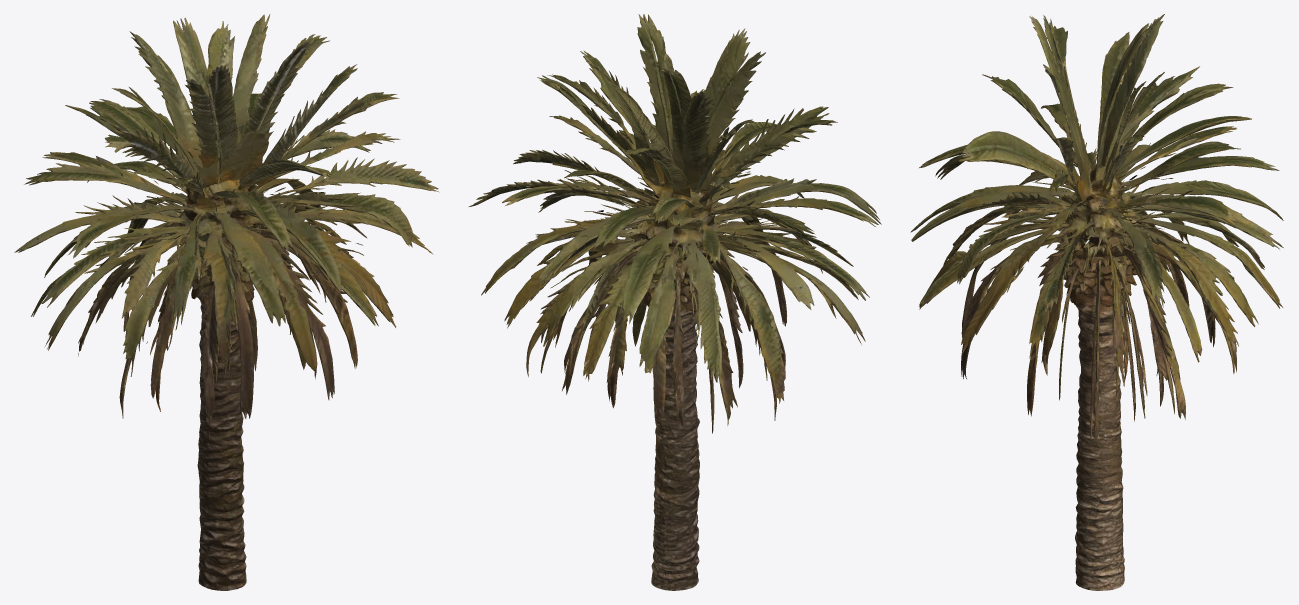
File: palm_tree.glb
3 renders of one model, left to right at view 1: azimuth 30°, elevation 25°; view 2: azimuth 150°, elevation 25°; view 3: azimuth 270°, elevation 25°, orthographic. The views are drawn at different scales.
Parts seen in each view (by area): view 1: world; view 2: world; view 3: world.
Boxes of the visible parts, bbox=[...] form: world: bbox=[14, 14, 439, 590]; world: bbox=[469, 14, 881, 590]; world: bbox=[910, 14, 1283, 590].
Bounding box in the file's own units: 1.43 × 1.99 × 1.23.
1 material, 1 textured.
